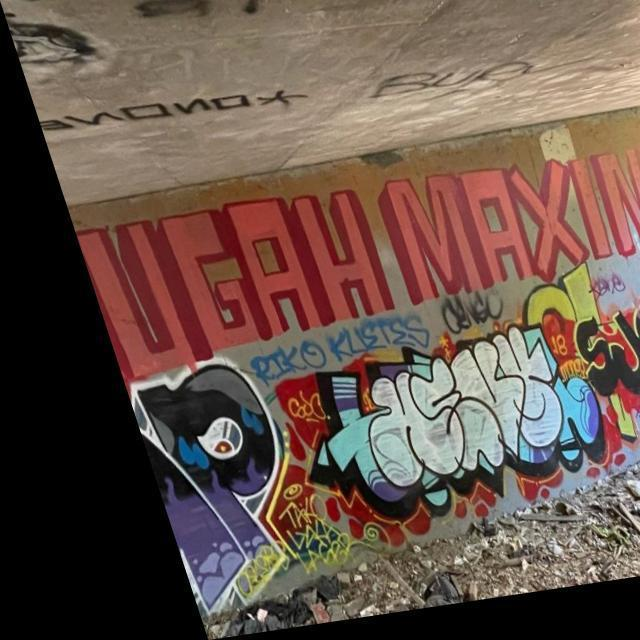-: (57, 146, 640, 385), (258, 337, 590, 542), (97, 355, 295, 634), (336, 360, 546, 481), (217, 328, 405, 382), (542, 316, 640, 416), (241, 486, 319, 575), (612, 261, 640, 459), (416, 298, 482, 341), (558, 282, 608, 318), (604, 414, 640, 464)
